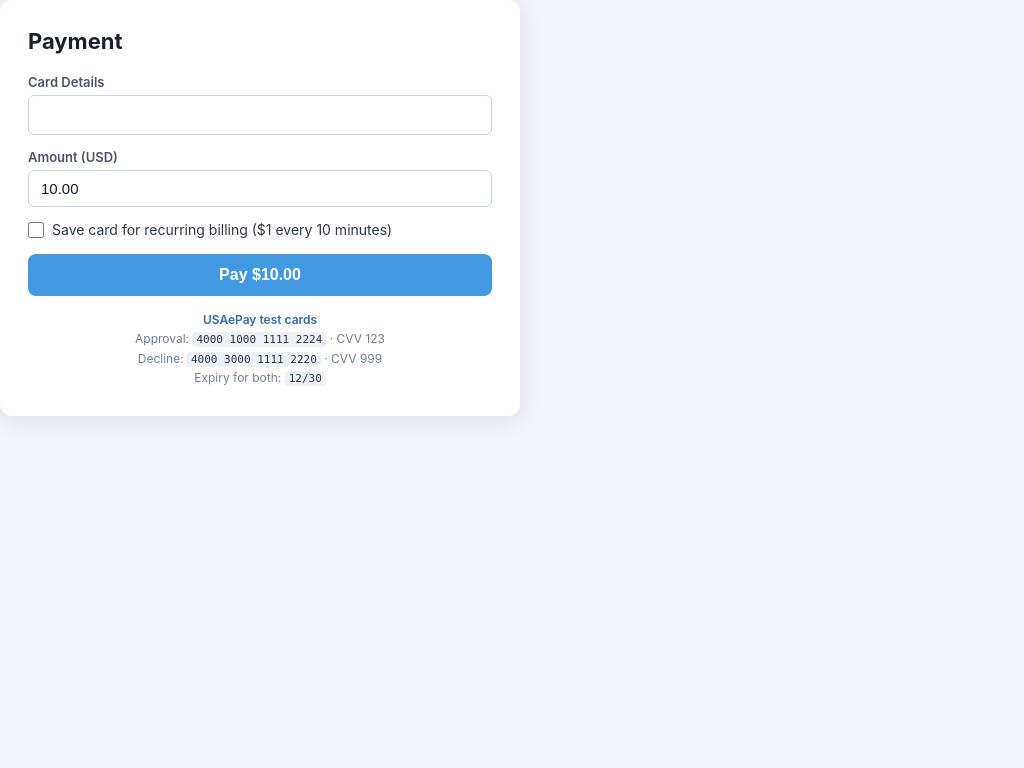
it: shows the warning even if the approved charge lacks a reference
Click the checkbox labelled "Save card for recurring billing ($1 every 10 minutes)": coordinates (36, 230) [28,222,44,238]
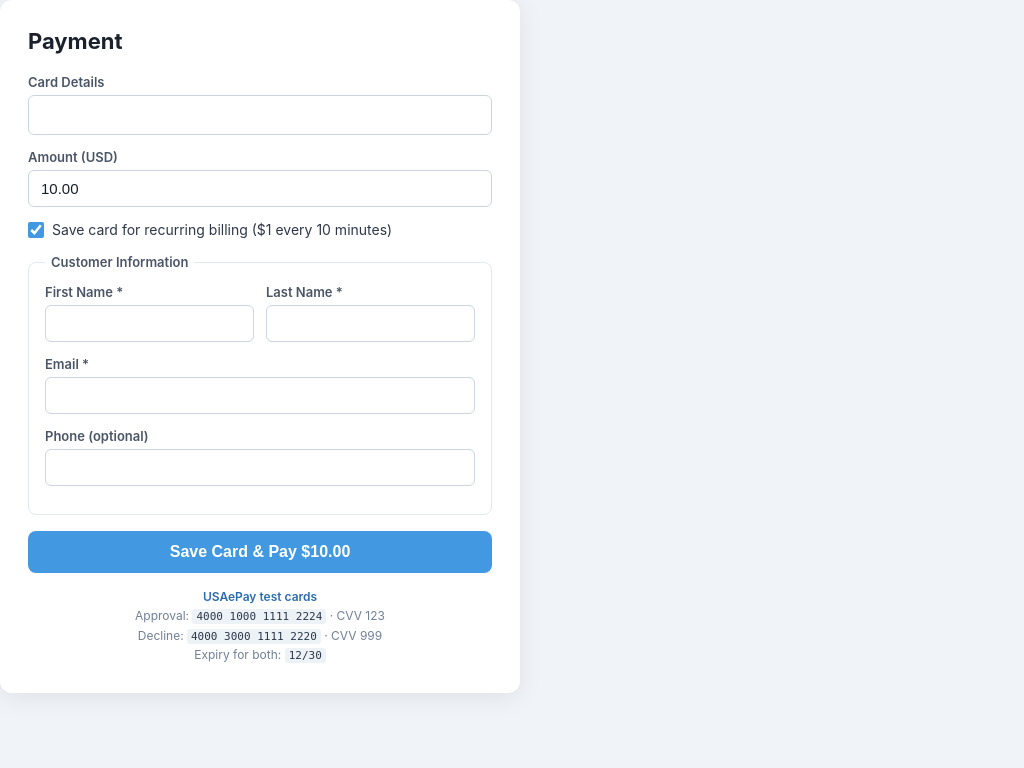
In the field labelled "First Name *": coordinates (150, 324) [45,305,254,342], type "Test"
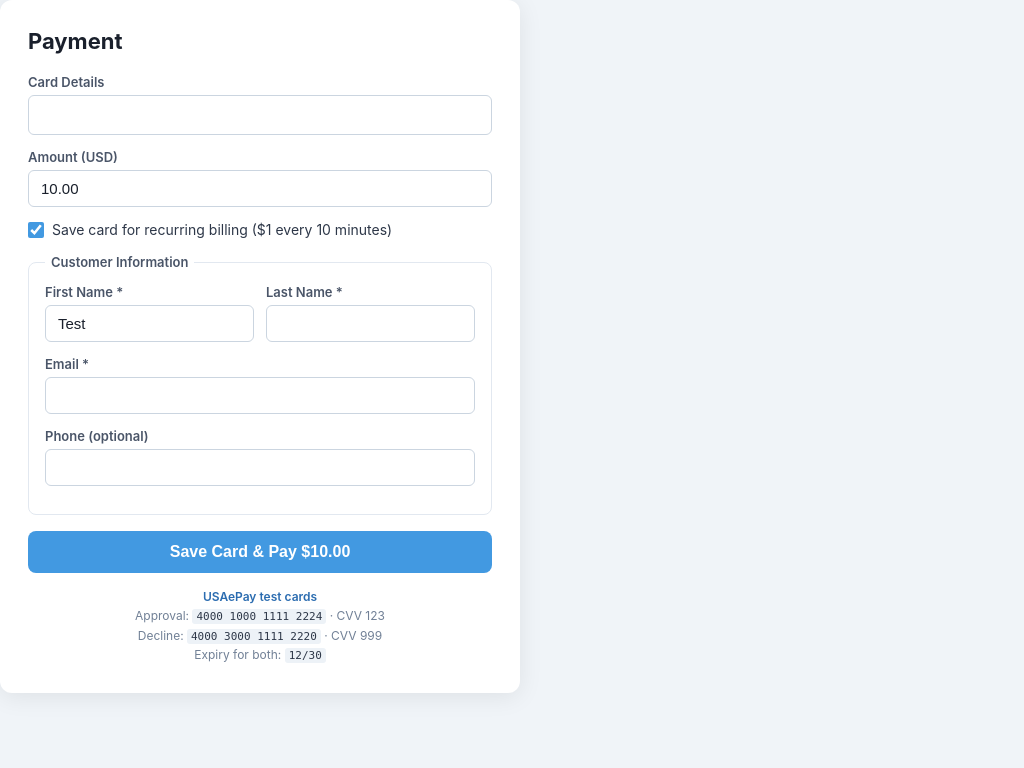
In the field labelled "Last Name *": coordinates (370, 324) [266,305,475,342], type "Customer"
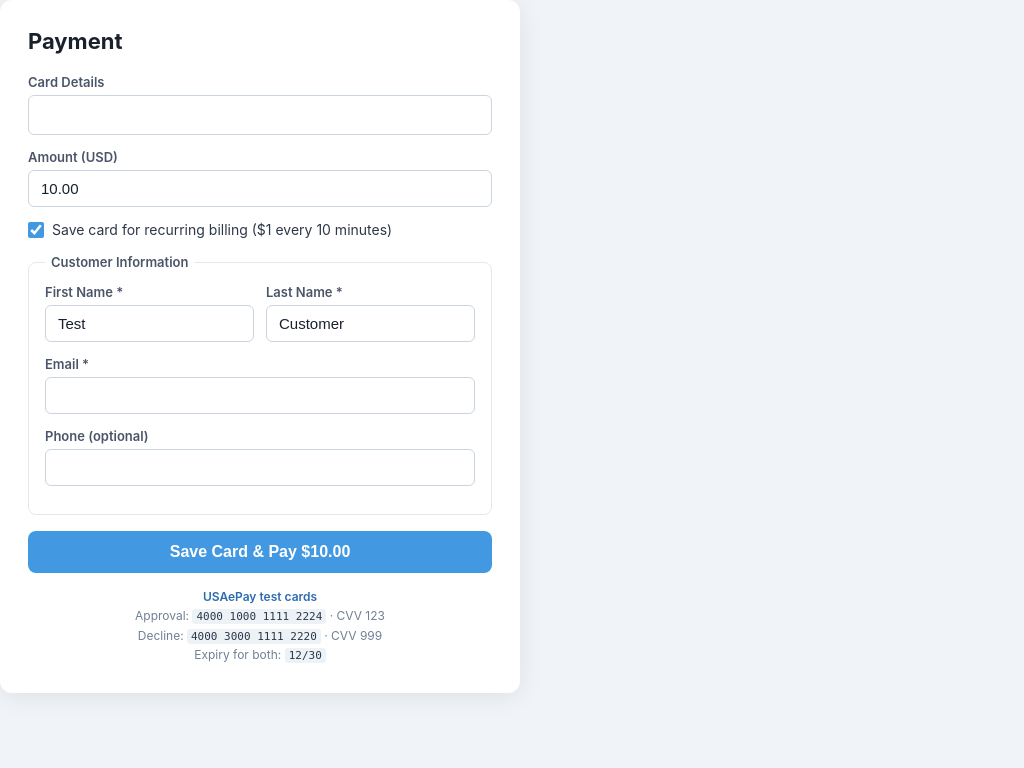
In the field labelled "Email *": coordinates (260, 396) [45,377,475,414], type "test@example.com"
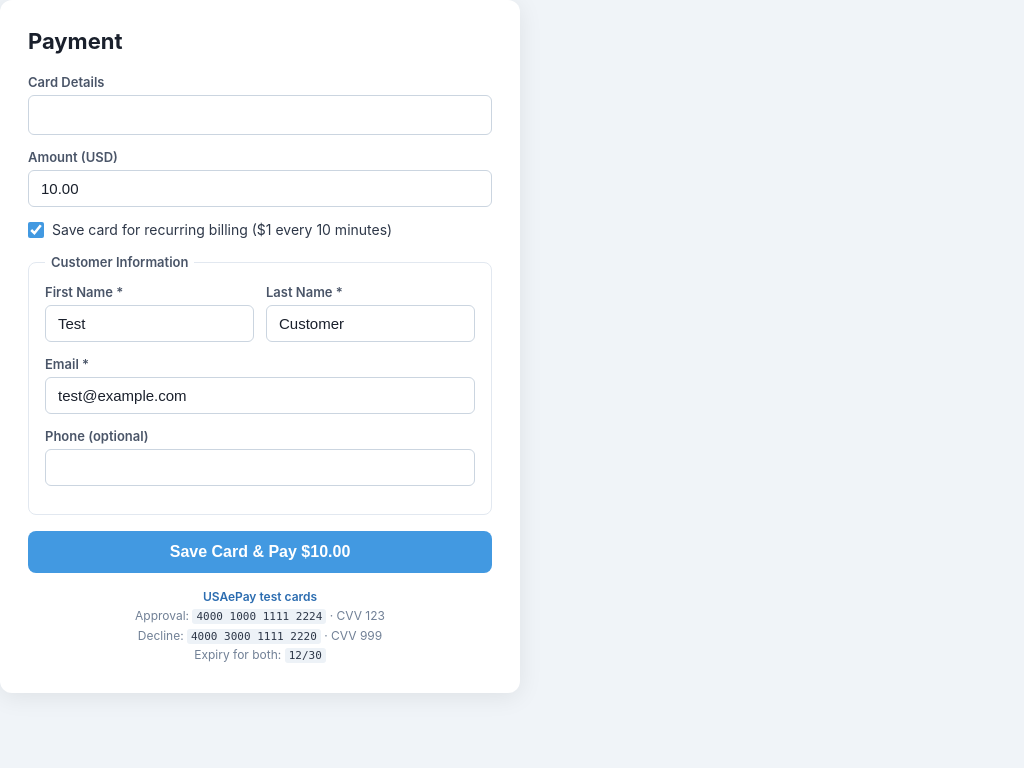
Click the button "Save Card & Pay $10.00": coordinates (260, 552) [28,531,492,573]
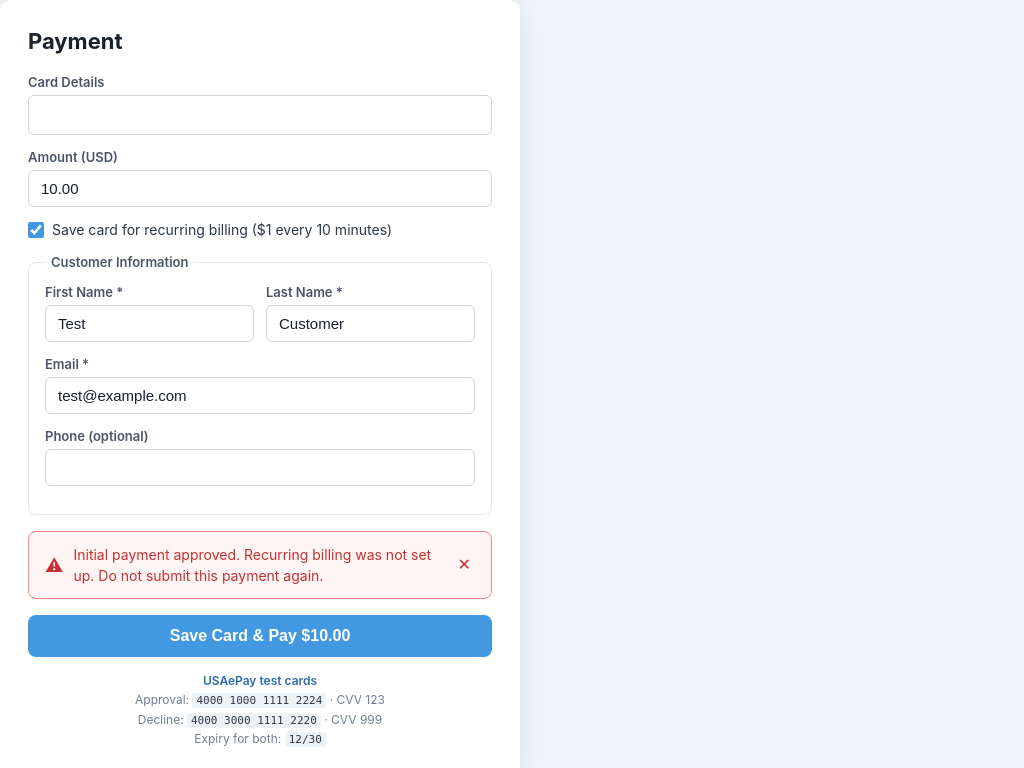
Expected: the message shows "Initial payment approved. Recurring billing was not set up. Do not submit this payment again.", [74,546,431,584]
